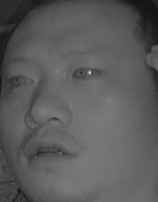eye: (5, 69, 37, 91), (70, 63, 103, 84)
mouth: (22, 132, 83, 168)
